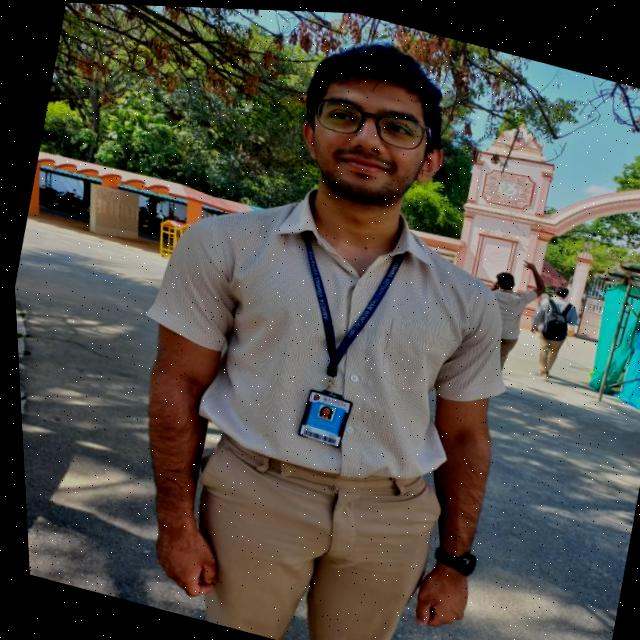id_card: (256, 223, 412, 457)
